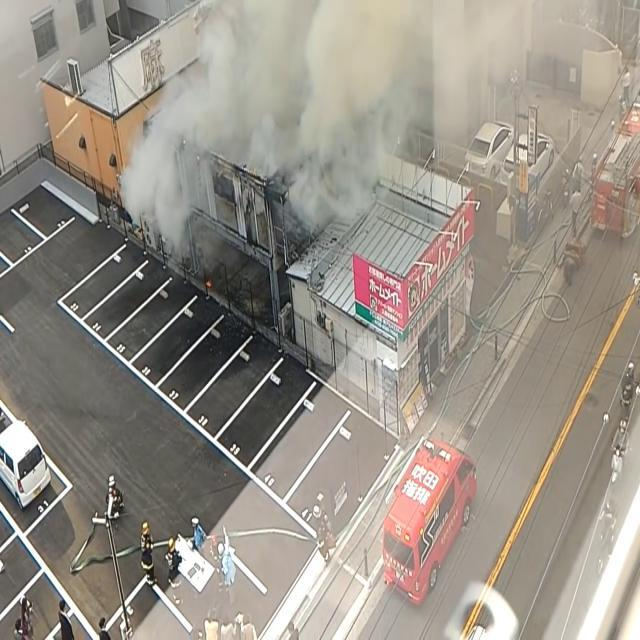Smoke: (120, 0, 434, 252)
